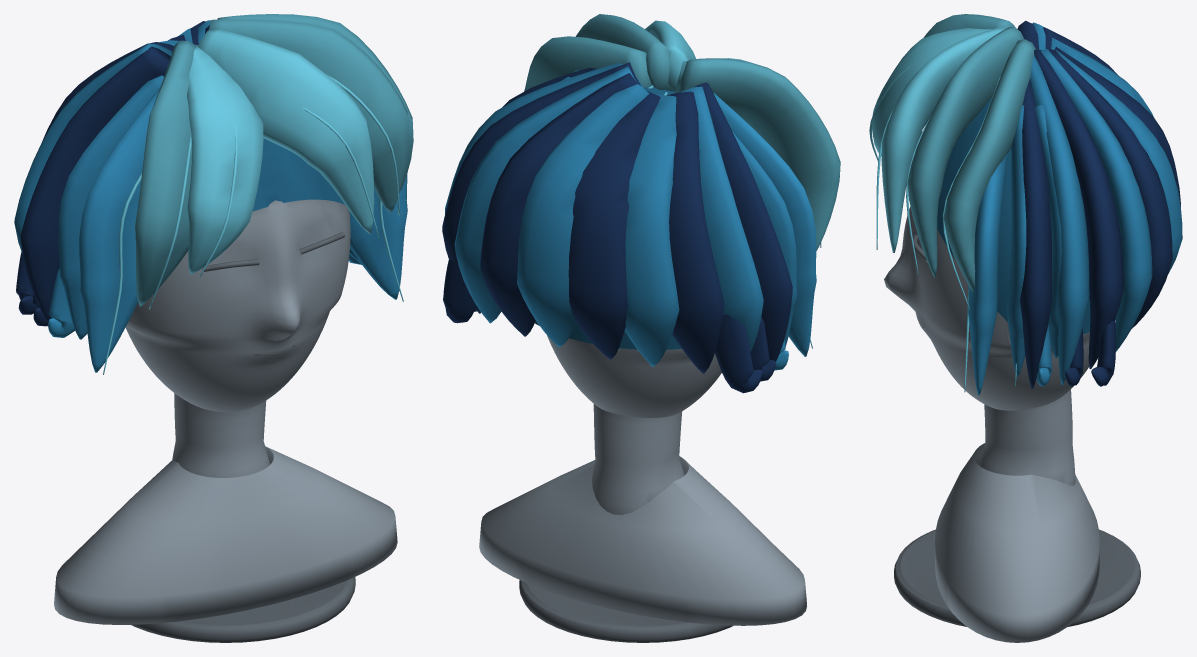
The picture shows the model from 3 angles, left to right: view 1: azimuth 30°, elevation 25°; view 2: azimuth 150°, elevation 25°; view 3: azimuth 270°, elevation 25°; orthographic projection. The views are drawn at different scales.
Parts seen in each view (by area): view 1: Busto de referência · referencia, Franja e luzes · franja, Franja e luzes · franja__mechas, Mechas principais · mechas__luz, Camadas profundas · camadas, Mechas principais · mechas, Busto de referência · referencia__base, Mechas principais · mechas__sombra, Franja e luzes · franja__nervuras; view 2: Busto de referência · referencia, Camadas profundas · camadas, Mechas principais · mechas, Franja e luzes · franja__mechas, Mechas principais · mechas__luz, Busto de referência · referencia__base, Franja e luzes · franja, Mechas principais · mechas__sombra; view 3: Busto de referência · referencia, Mechas principais · mechas, Camadas profundas · camadas, Franja e luzes · franja__mechas, Franja e luzes · franja, Busto de referência · referencia__base, Mechas principais · mechas__luz, Mechas principais · mechas__sombra, Franja e luzes · franja__nervuras.
Part boxes in pixels (x1,y1,x2,y2): Busto de referência · referencia: (54,199,397,624); Franja e luzes · franja: (187,28,374,274); Franja e luzes · franja__mechas: (135,14,413,306); Mechas principais · mechas__luz: (48,88,407,372); Camadas profundas · camadas: (16,21,209,326); Mechas principais · mechas: (14,20,360,339); Busto de referência · referencia__base: (131,232,355,642); Mechas principais · mechas__sombra: (252,138,344,211); Franja e luzes · franja__nervuras: (103,75,403,374); Busto de referência · referencia: (479,335,806,625); Camadas profundas · camadas: (442,62,792,393); Mechas principais · mechas: (445,63,797,366); Franja e luzes · franja__mechas: (524,14,840,250); Mechas principais · mechas__luz: (713,93,816,370); Busto de referência · referencia__base: (519,580,733,642); Franja e luzes · franja: (645,20,747,92); Mechas principais · mechas__sombra: (535,85,681,349); Busto de referência · referencia: (884,206,1099,642); Mechas principais · mechas: (1006,22,1182,384); Camadas profundas · camadas: (1017,20,1180,388); Franja e luzes · franja__mechas: (907,14,1036,291); Franja e luzes · franja: (871,27,1005,252); Busto de referência · referencia__base: (894,234,1140,626); Mechas principais · mechas__luz: (968,153,1051,395); Mechas principais · mechas__sombra: (937,98,1116,334); Franja e luzes · franja__nervuras: (869,66,1016,392).
Size of the model in its own units: 1.55 by 2.35 by 1.22.
